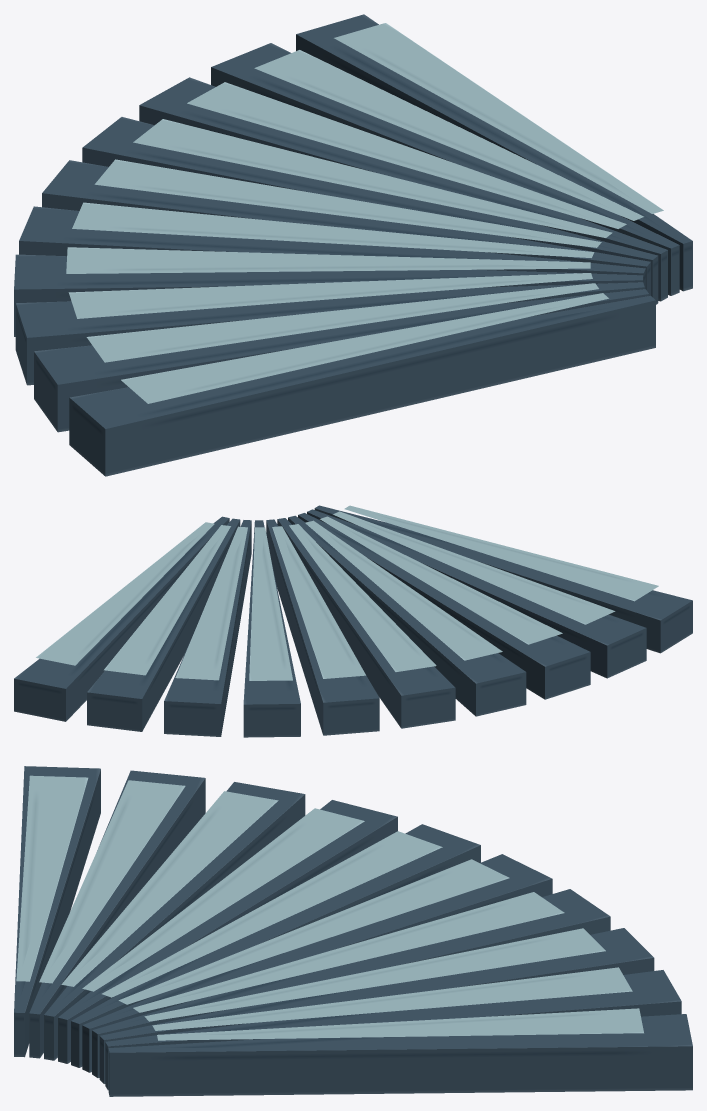
The model's file is sc_tread_curve_right_4.obj.
3 renders of one model, top to bottom at view 1: azimuth 30°, elevation 25°; view 2: azimuth 150°, elevation 25°; view 3: azimuth 270°, elevation 25°, orthographic. The views are drawn at different scales.
Bounding box in the file's own units: 17.43 × 1.56 × 17.45.
1 material, 1 textured.
